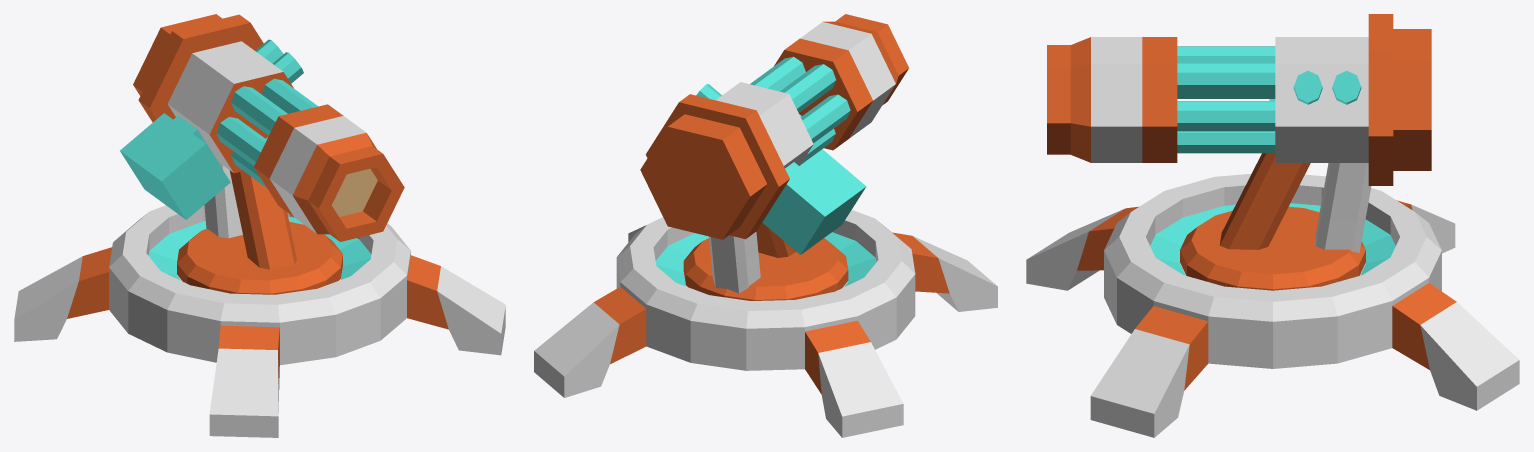
Rendered from turret.glb.
3 renders of one model, left to right at view 1: azimuth 30°, elevation 25°; view 2: azimuth 150°, elevation 25°; view 3: azimuth 270°, elevation 25°, orthographic. The views are drawn at different scales.
Parts seen in each view (by area): view 1: Cylinder; view 2: Cylinder; view 3: Cylinder.
Part boxes in pixels (bbox=[...]): Cylinder: bbox=[14, 14, 505, 437]; Cylinder: bbox=[534, 14, 997, 437]; Cylinder: bbox=[1026, 14, 1519, 437].
Size of the model in its own units: 2.92 by 1.97 by 2.92.
